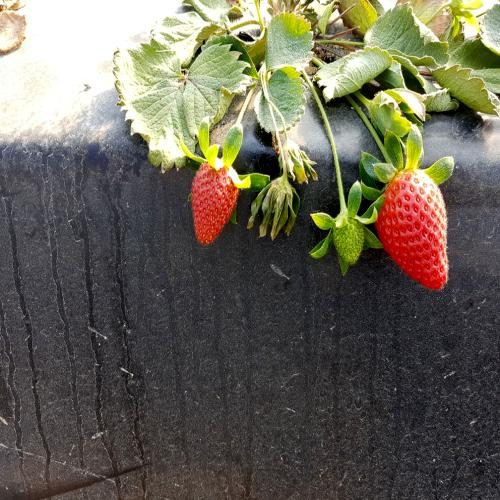ripe: (371, 152, 458, 314), (182, 139, 241, 254)
